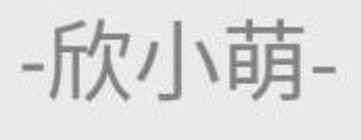TextView: (1, 1, 360, 139)
